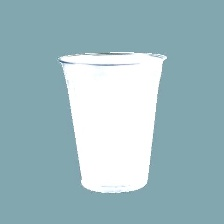glass: (54, 46, 168, 199)
